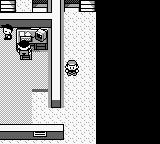main: (65, 61, 79, 75)
no-caminable: (96, 1, 159, 143), (0, 0, 61, 108), (0, 124, 64, 139), (18, 29, 48, 50)
npc: (16, 41, 32, 56), (2, 25, 13, 39)
puerta: (32, 0, 48, 12), (64, 0, 80, 12), (80, 0, 95, 11), (1, 0, 16, 11)
